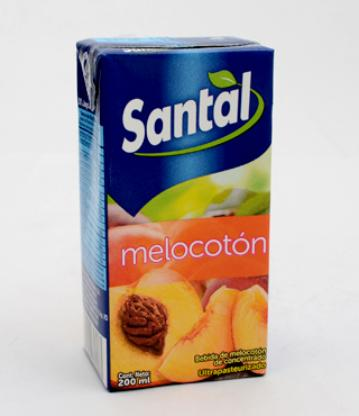Others: (72, 31, 278, 395)
